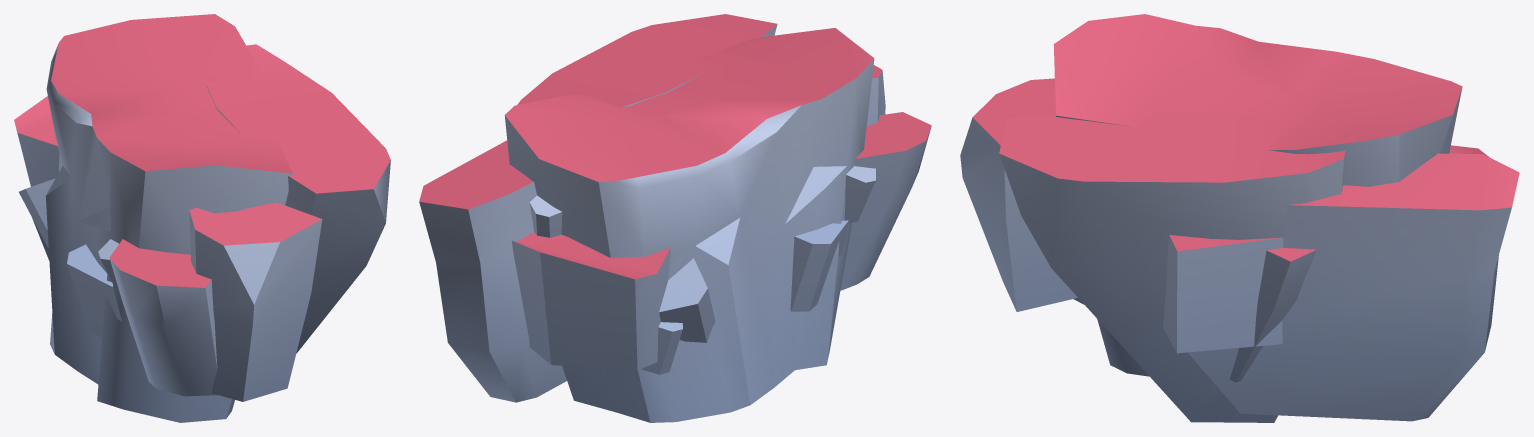
File: mdl_Cliff_Big.fbx
The picture shows the model from 3 angles, left to right: view 1: azimuth 30°, elevation 25°; view 2: azimuth 150°, elevation 25°; view 3: azimuth 270°, elevation 25°; orthographic projection. The views are drawn at different scales.
Parts seen in each view (by area): view 1: mdl_Cliff_Big; view 2: mdl_Cliff_Big; view 3: mdl_Cliff_Big.
Boxes of the visible parts, x1,y1,x2,y2 form: mdl_Cliff_Big: (14, 14, 390, 422); mdl_Cliff_Big: (419, 14, 931, 422); mdl_Cliff_Big: (960, 14, 1519, 422).
Bounding box in the file's own units: 17.21 × 16.06 × 25.91.
